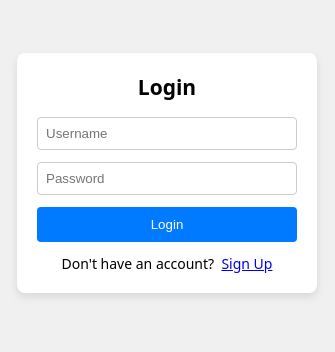
Test: User Authentication › should display error when password is empty
Step 1. Type "user123" into the field with test id "username" → (167, 134), box left=37, top=117, right=297, bottom=150
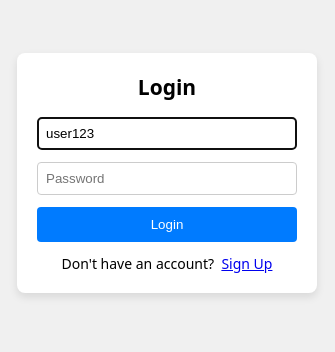
Step 2. Click the button with test id "login-button" → click(167, 225), box left=37, top=207, right=297, bottom=242
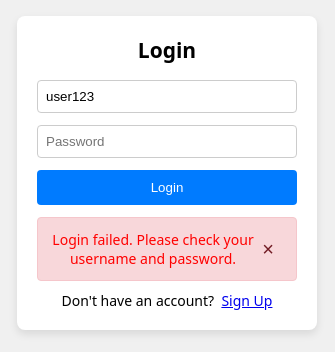
expect the text with test id "error-message" reads "Login failed. Please check your username and password.": met, box left=52, top=230, right=253, bottom=268
